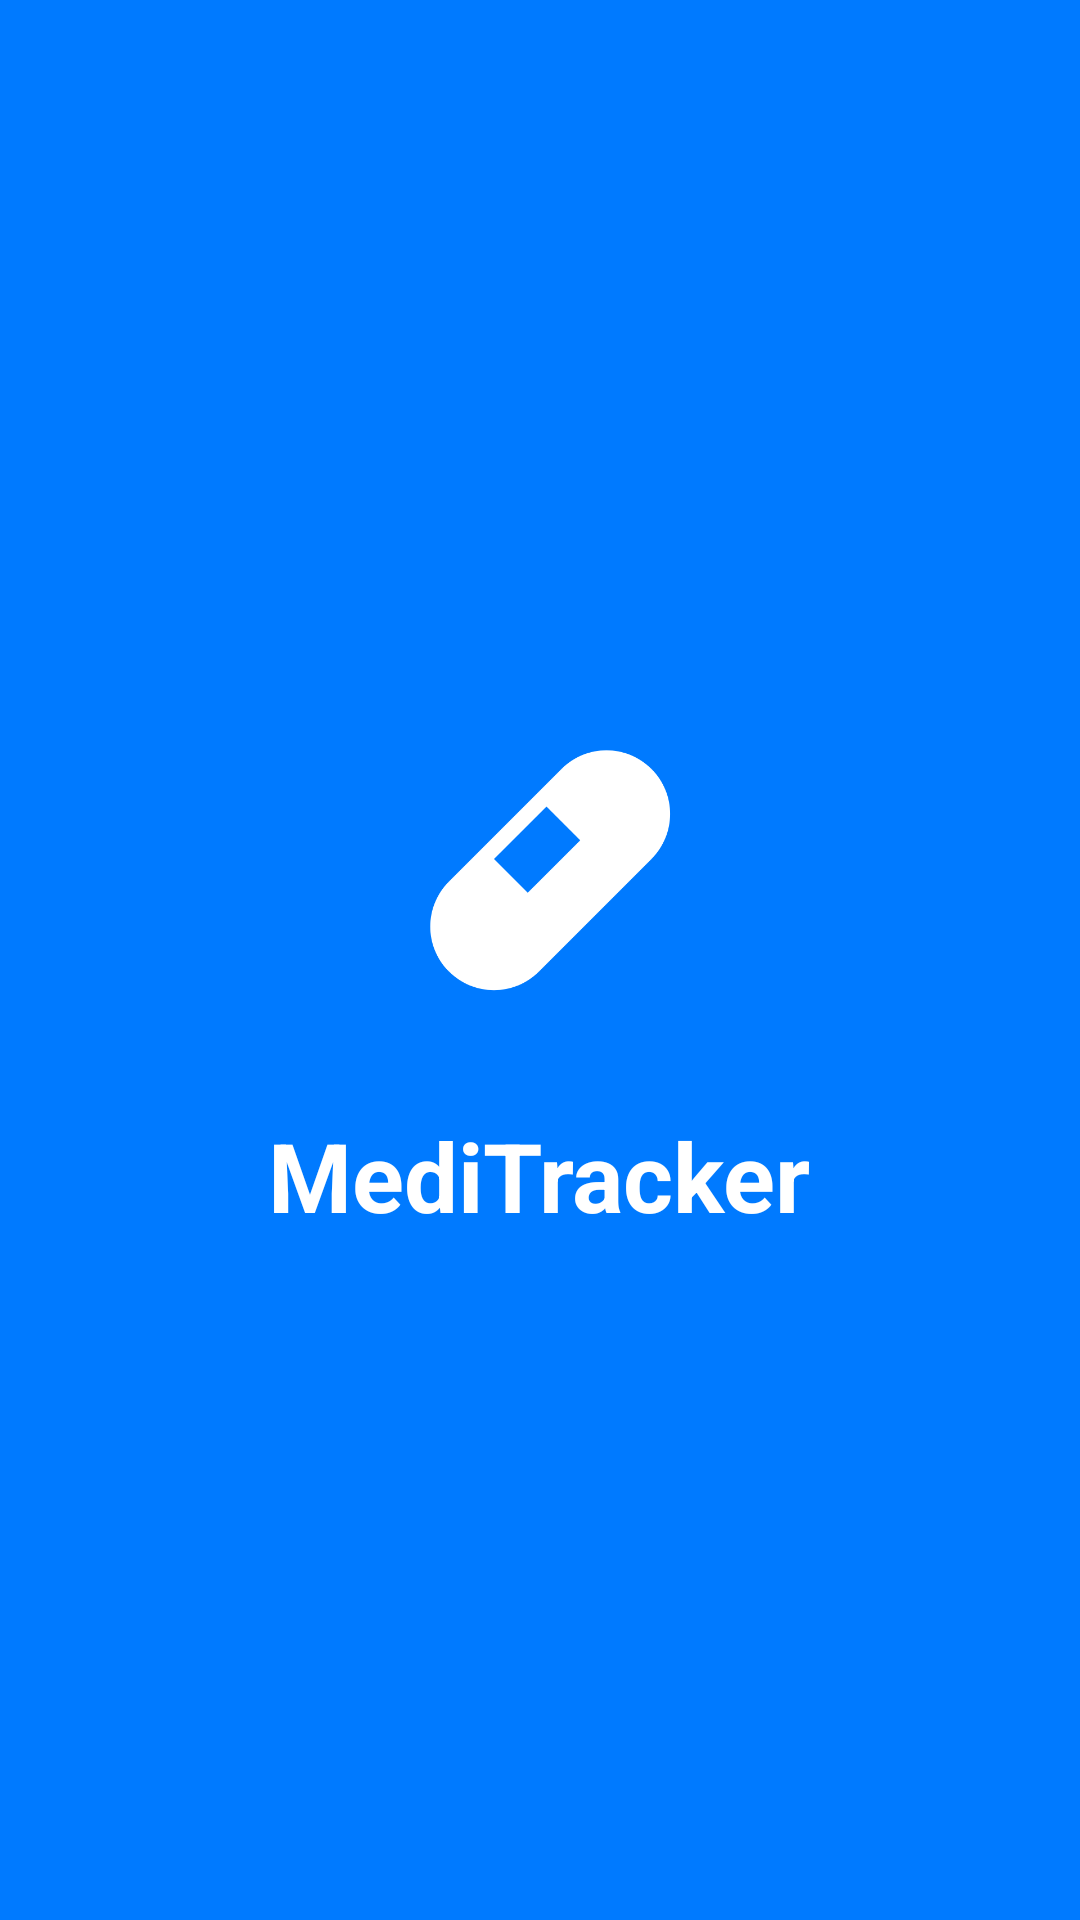

Locate icon controls on the screen. Image size 1080px×1920px, boxes as rect(x1, y1, x2, y2).
medicine: rect(430, 750, 670, 991)
